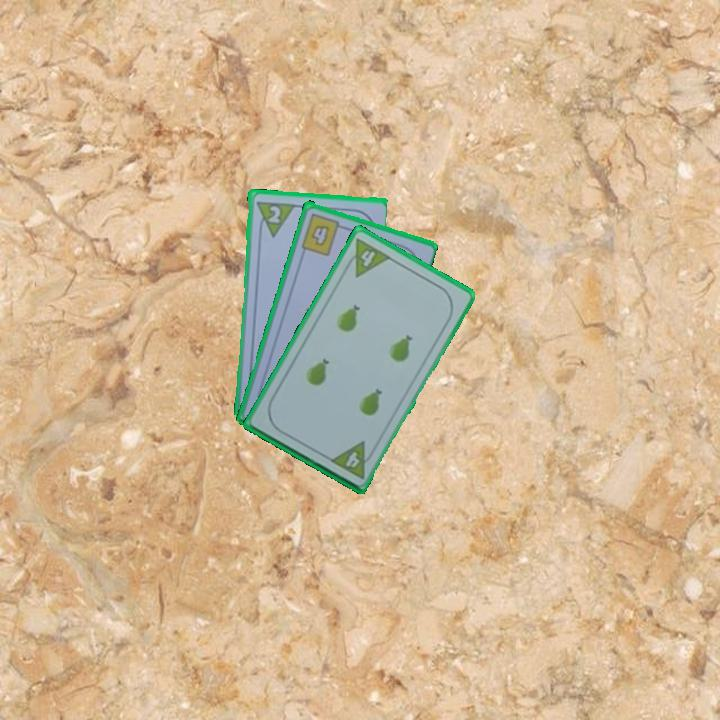2p: (265, 202, 283, 226)
4b: (297, 209, 348, 258)
4p: (340, 235, 394, 280), (326, 438, 378, 482)
